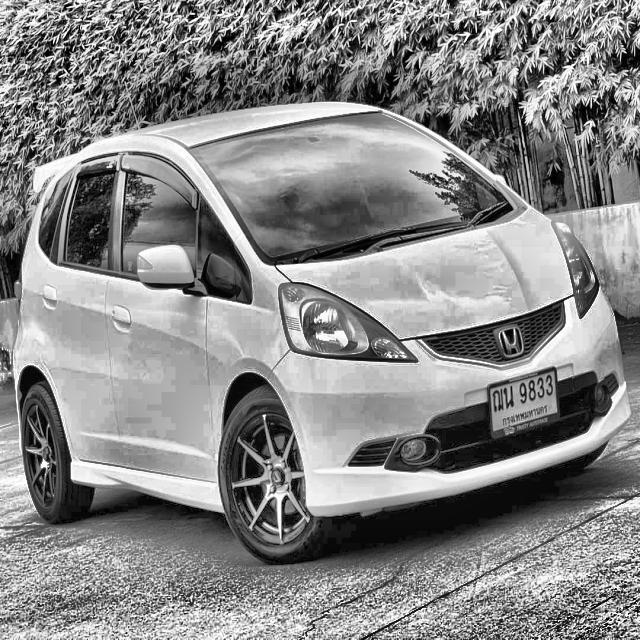license-plate: (485, 364, 561, 442)
